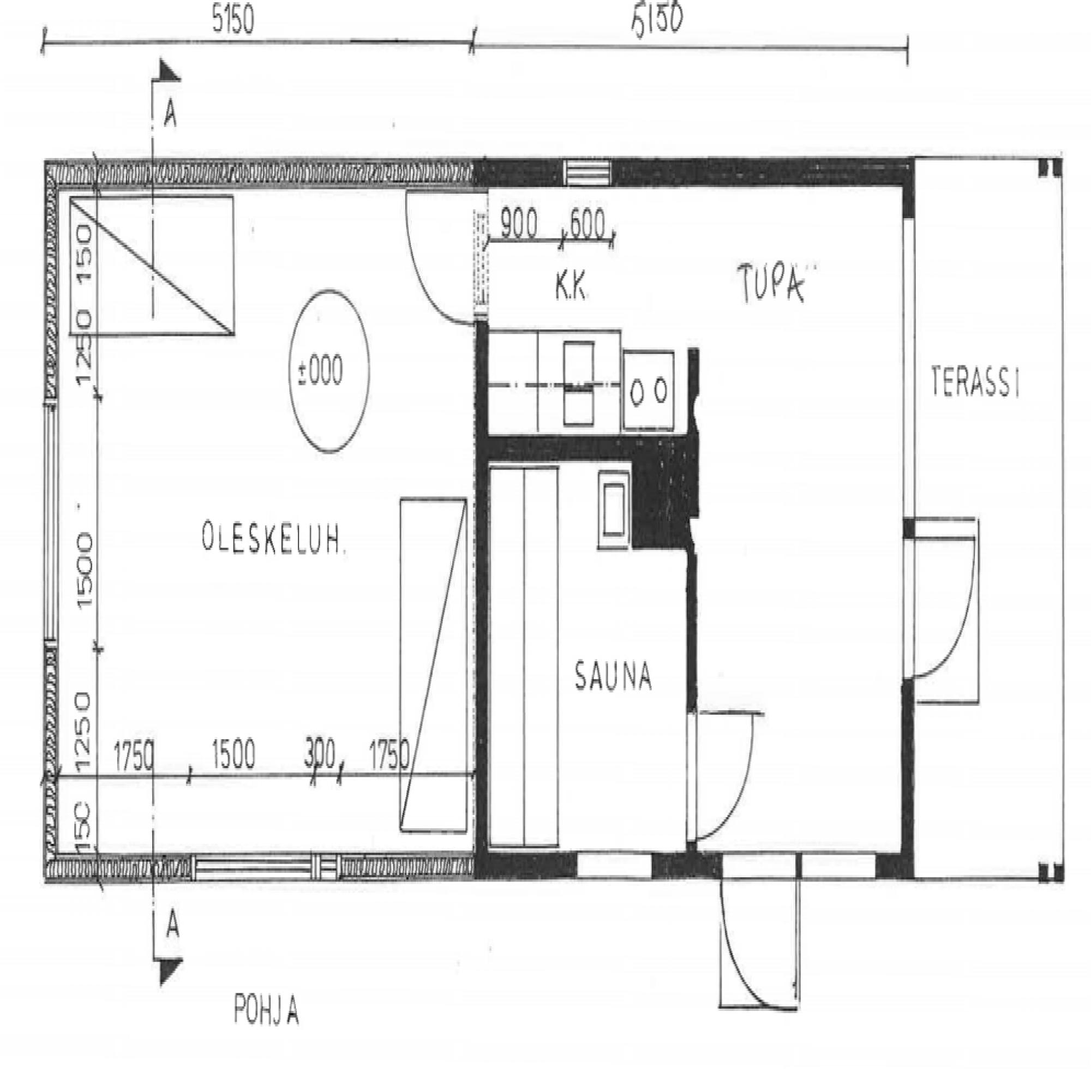wall: (47, 161, 916, 188), (45, 857, 914, 879), (42, 195, 59, 857), (474, 192, 488, 853), (902, 193, 916, 850), (687, 350, 699, 842), (633, 462, 687, 544), (489, 437, 685, 457)
